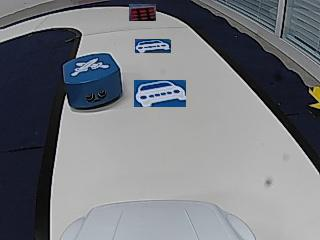spy: (71, 58, 108, 75)
